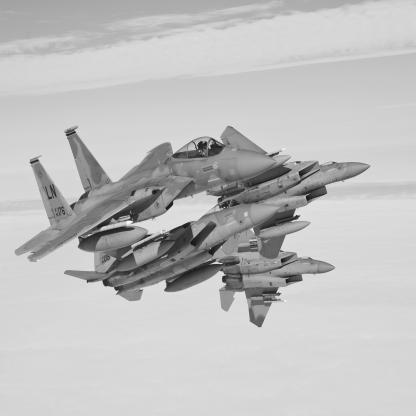F15: (16, 126, 278, 264), (207, 126, 372, 266), (65, 199, 281, 303), (211, 230, 337, 329)
